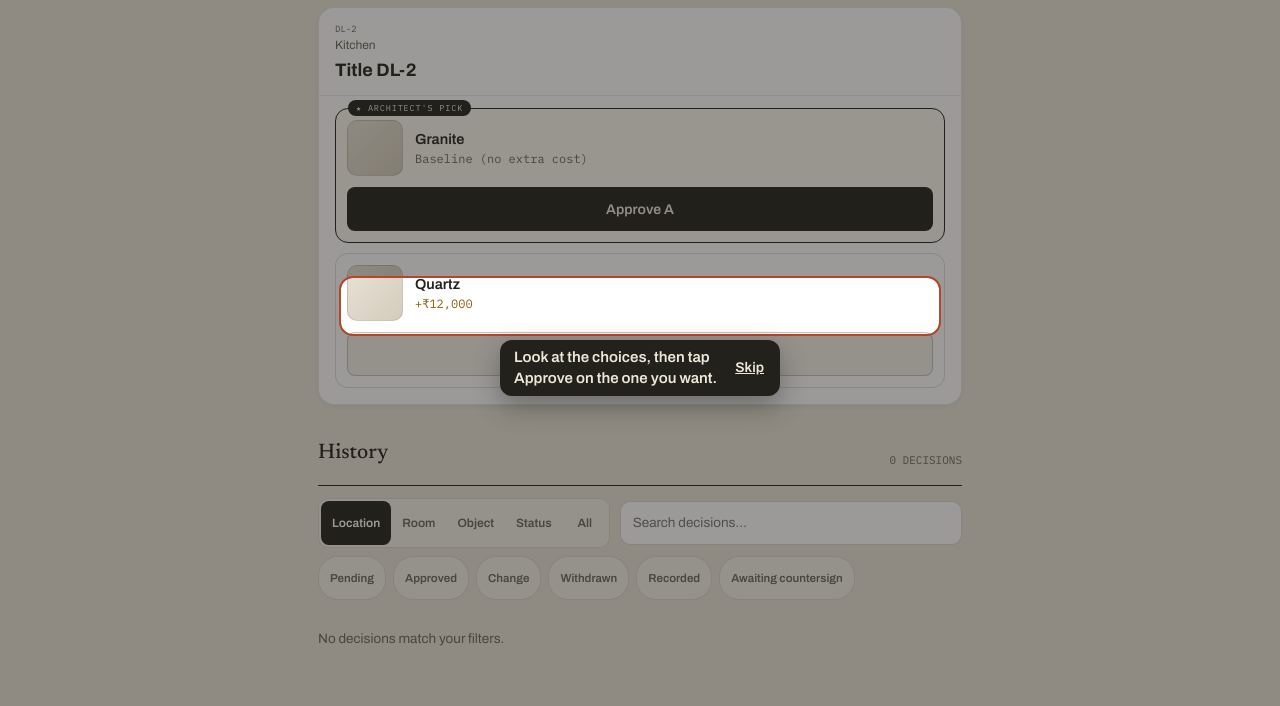
Test: the client is guided through approving a choice › shows itself the first time, walks Approve → confirm, and is done once the approval is taken (demo)
(page scrolled)
Check: the message with test id "guide-tip" shows "tap Approve on the one you want", box [514,349,717,386]
What coordinates should you click on to do the following:
click the button "Approve B"
I would click on:
 (640, 354)
Its box is [347,332,933,376].
Wait 400 ms
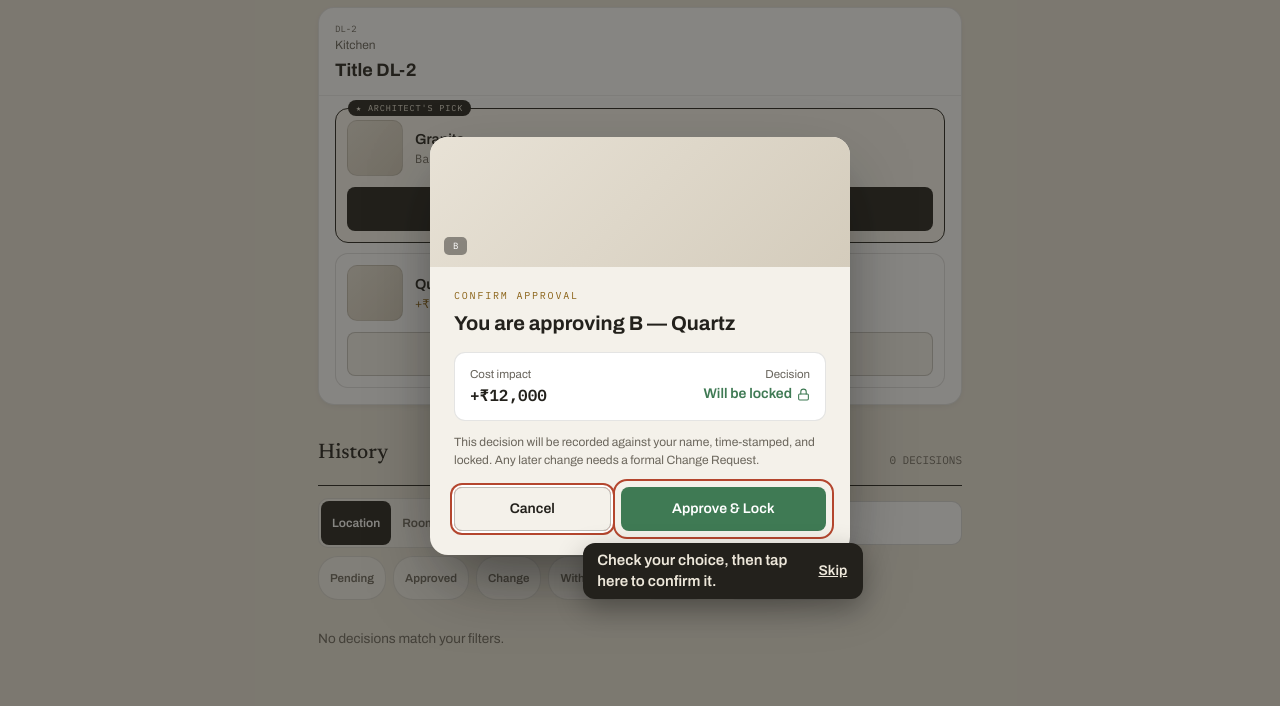
Check: the message with test id "guide-tip" shows "tap here to confirm", box [597,552,787,589]
What coordinates should you click on to do the following:
click the button "Approve & Lock"
I would click on:
 (723, 509)
Its box is [620,487,826,531].
Wait 400 ms
(page scrolled)
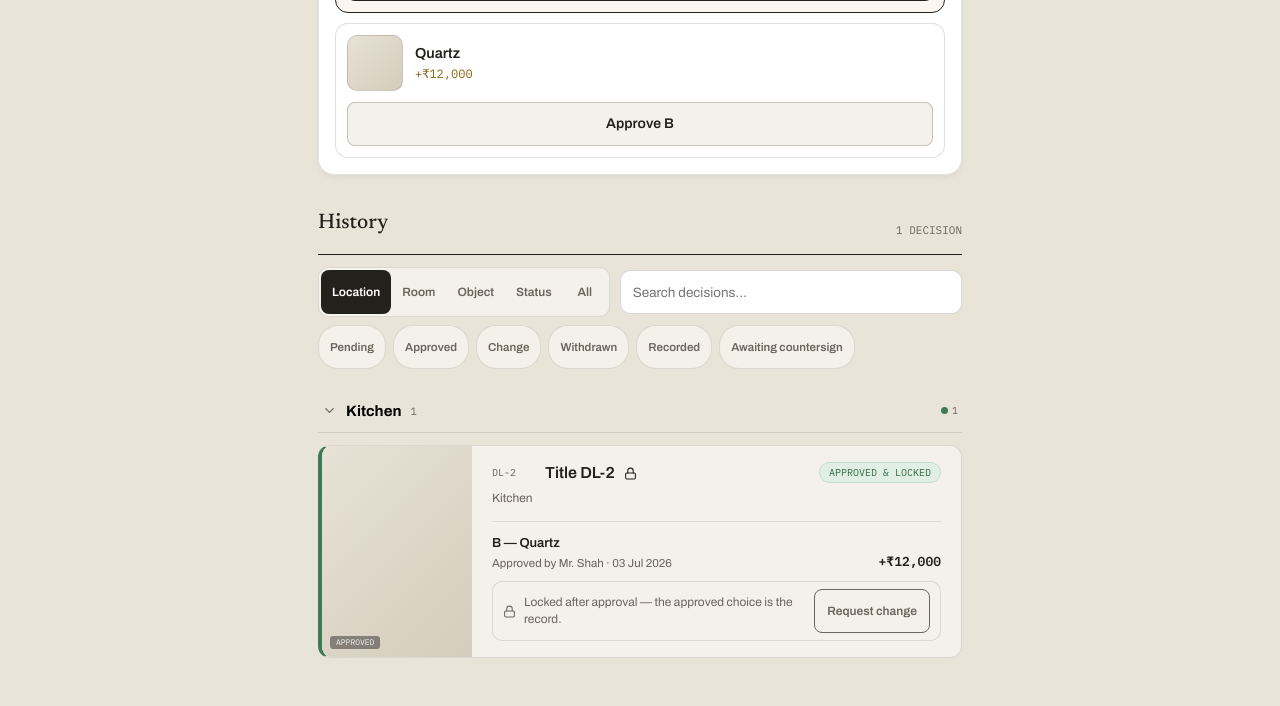
Check: the message with test id "guide-tip" is gone
